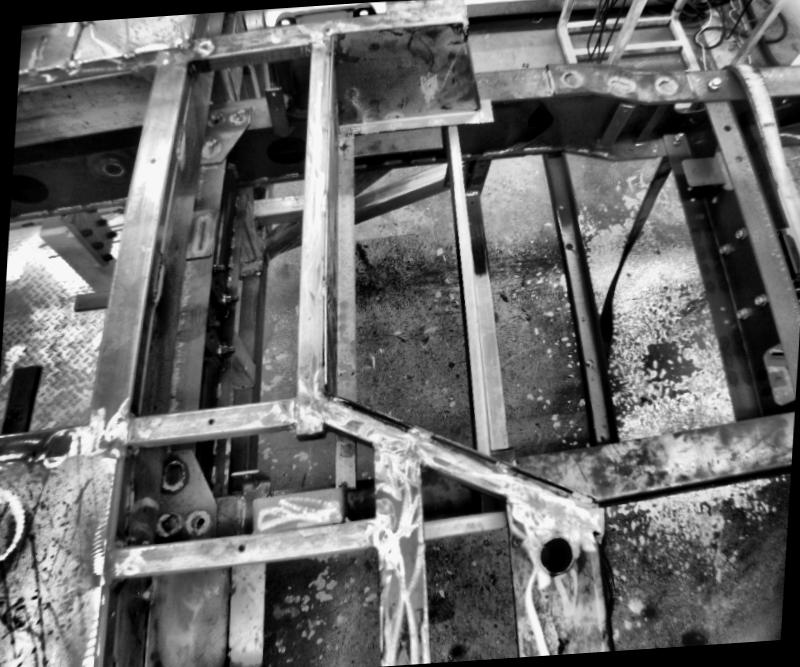bolt: (704, 76, 720, 94), (215, 342, 235, 356), (219, 292, 239, 306), (210, 259, 226, 275), (669, 130, 685, 144), (748, 292, 762, 308), (714, 245, 730, 258), (732, 230, 743, 244), (732, 308, 744, 320)
bracket: (0, 359, 42, 435), (672, 148, 724, 205), (752, 340, 794, 410), (259, 83, 297, 142), (70, 286, 112, 315)
hole: (10, 170, 49, 209), (536, 534, 574, 574), (100, 160, 125, 178), (12, 409, 24, 420), (233, 542, 244, 553), (586, 358, 594, 369), (206, 416, 214, 426), (597, 432, 605, 442), (148, 156, 156, 165), (195, 517, 203, 526), (720, 318, 728, 327), (722, 124, 730, 132), (564, 242, 572, 250), (557, 203, 565, 210), (715, 307, 721, 312), (271, 94, 276, 98), (469, 202, 472, 206)
